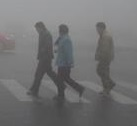person: (26, 20, 68, 98), (54, 24, 86, 99), (94, 21, 117, 97)
